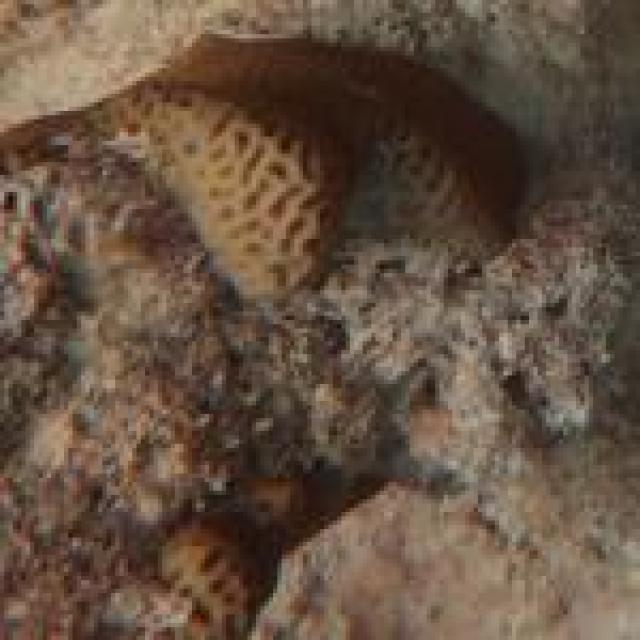Healthy Coral: (76, 35, 555, 308), (149, 509, 281, 640)
